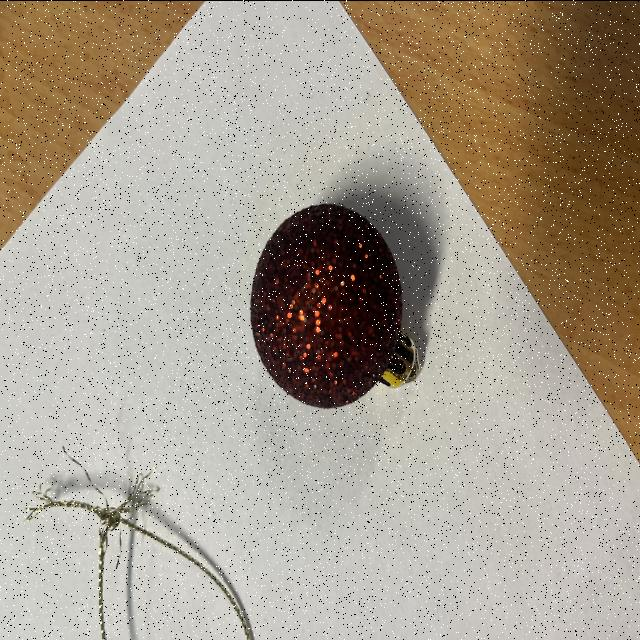glitter-bauble: (237, 179, 436, 433), (251, 202, 421, 408)
